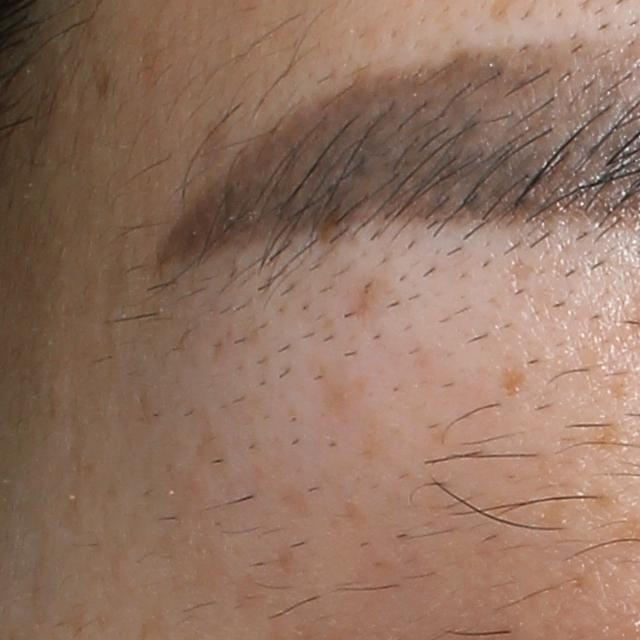melasma: (320, 369, 373, 417), (592, 416, 625, 452), (496, 365, 524, 397)
